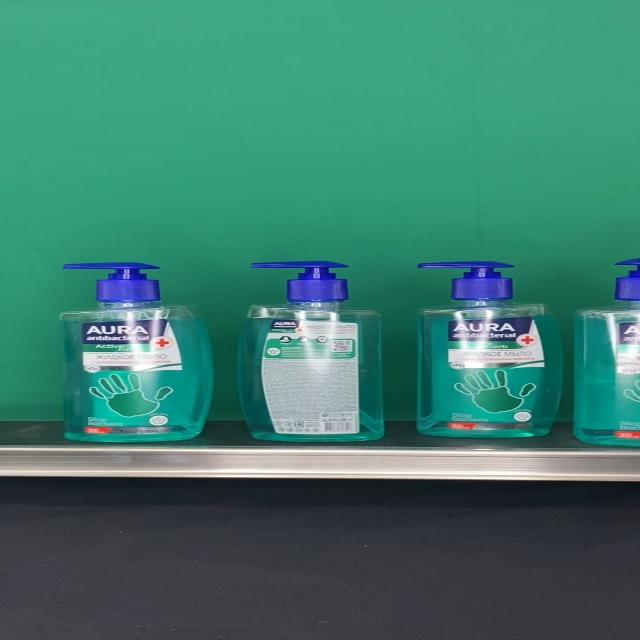Bottle: (57, 264, 214, 442), (236, 261, 385, 442), (414, 261, 564, 437)
Cap: (249, 260, 347, 302), (62, 263, 160, 303), (416, 261, 514, 301)
